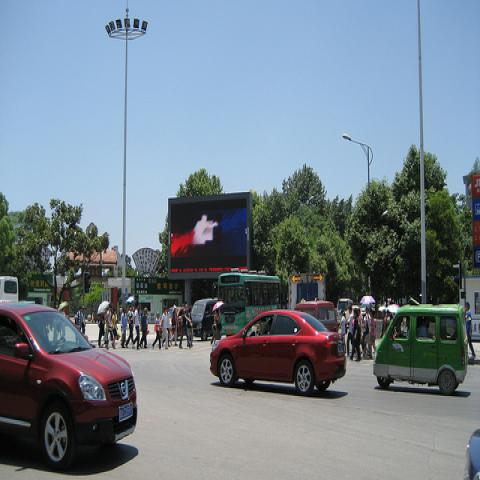bus: (218, 273, 281, 336)
car: (1, 297, 136, 468), (210, 308, 347, 395), (295, 302, 339, 332), (191, 298, 221, 340)
truck: (375, 307, 469, 394), (0, 277, 35, 304)
